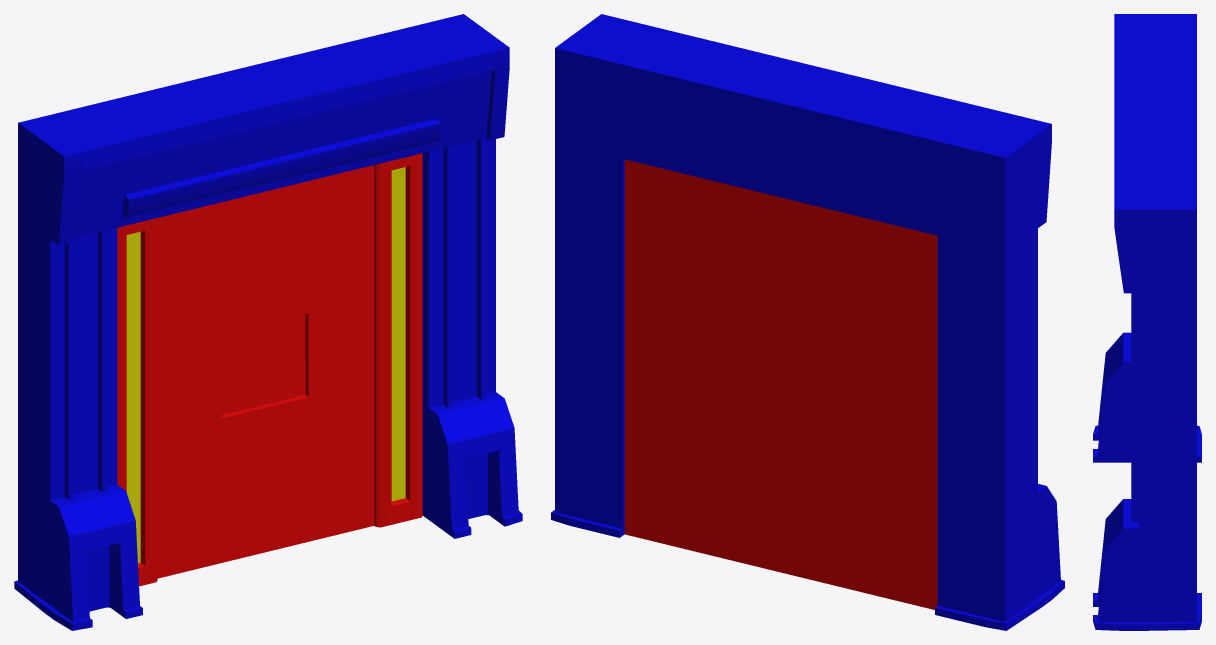
The model's file is Door.fbx.
The picture shows the model from 3 angles, left to right: view 1: azimuth 30°, elevation 25°; view 2: azimuth 150°, elevation 25°; view 3: azimuth 270°, elevation 25°; orthographic projection. The views are drawn at different scales.
Visible parts, largest first — view 1: Gate_low, Door_low; view 2: Gate_low, Door_low; view 3: Gate_low.
Boxes of the visible parts, box(x1,y1,x2,y2) form: Gate_low: box(14, 14, 522, 630); Door_low: box(117, 153, 422, 586); Gate_low: box(551, 14, 1064, 630); Door_low: box(624, 159, 937, 609); Gate_low: box(1093, 14, 1201, 630).
Bounding box in the file's own units: 4.09 × 4 × 0.9422.
